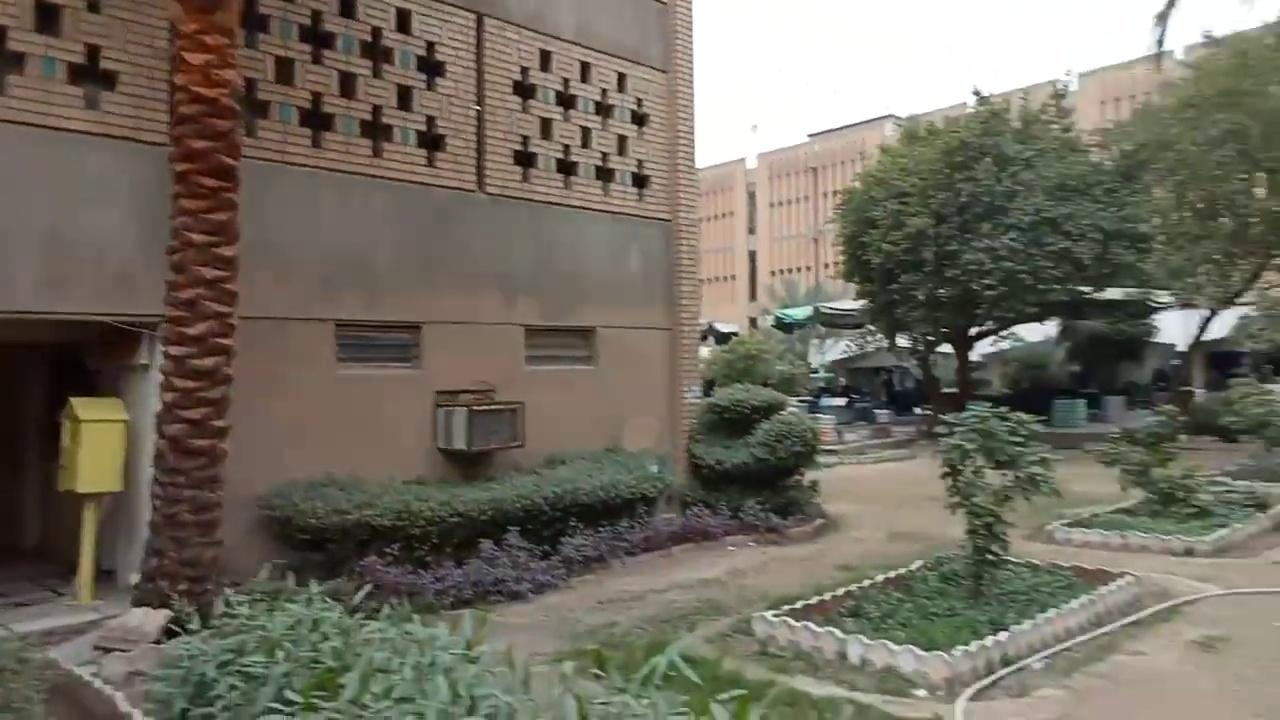person: (880, 368, 896, 406)
tree: (829, 82, 1161, 420), (128, 1, 245, 628), (255, 442, 676, 604), (1103, 18, 1278, 404), (685, 325, 825, 521), (933, 399, 1063, 601), (1056, 314, 1157, 419), (698, 325, 812, 397), (1215, 374, 1278, 447)
